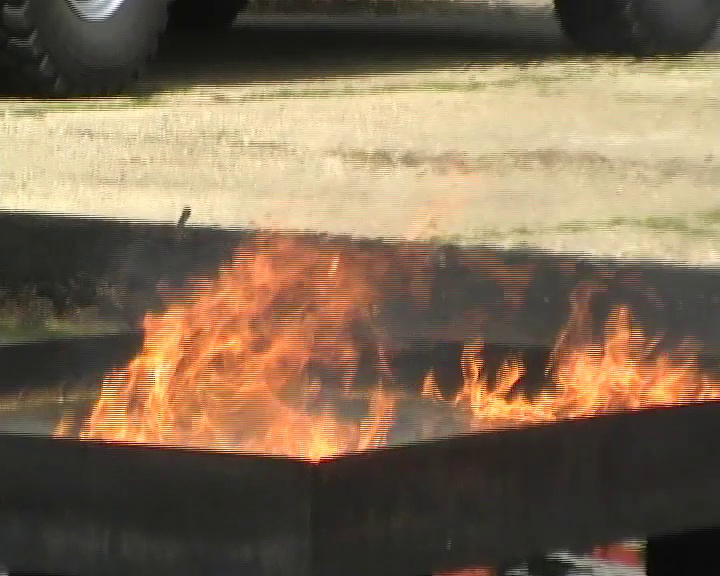fire: (79, 235, 395, 458), (423, 298, 720, 433)
